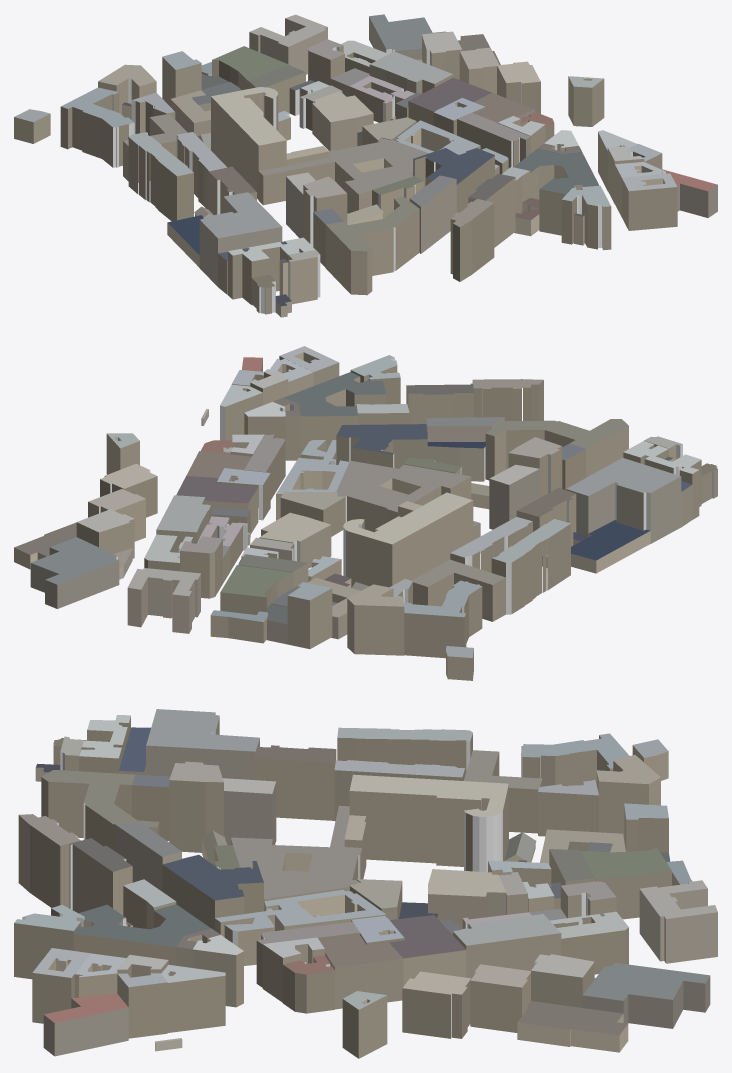
The picture shows the model from 3 angles, top to bottom: view 1: azimuth 30°, elevation 25°; view 2: azimuth 150°, elevation 25°; view 3: azimuth 270°, elevation 25°; orthographic projection. The views are drawn at different scales.
Visible parts, largest first — view 1: tuile; view 2: tuile; view 3: tuile.
Part boxes in pixels (x1=…): tuile: x1=14, y1=14, x2=717, y2=317; tuile: x1=14, y1=346, x2=717, y2=680; tuile: x1=14, y1=709, x2=717, y2=1058.
Bounding box in the file's own units: 264 × 34.73 × 275.
